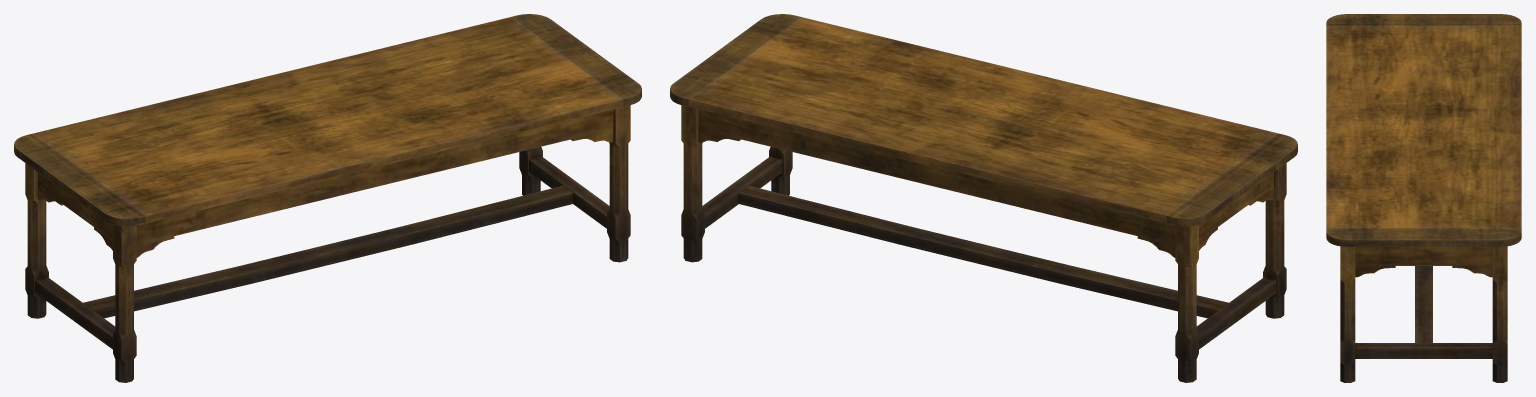
The model's file is WoodenTable_01.gltf.
3 renders of one model, left to right at view 1: azimuth 30°, elevation 25°; view 2: azimuth 150°, elevation 25°; view 3: azimuth 270°, elevation 25°, orthographic. The views are drawn at different scales.
Parts seen in each view (by area): view 1: WoodenTable_01; view 2: WoodenTable_01; view 3: WoodenTable_01.
Part boxes in pixels (<box>): WoodenTable_01: <box>14,14,641,382</box>; WoodenTable_01: <box>670,14,1297,382</box>; WoodenTable_01: <box>1326,14,1521,382</box>.
Size of the model in its own units: 1.8 by 0.5488 by 0.6572.
